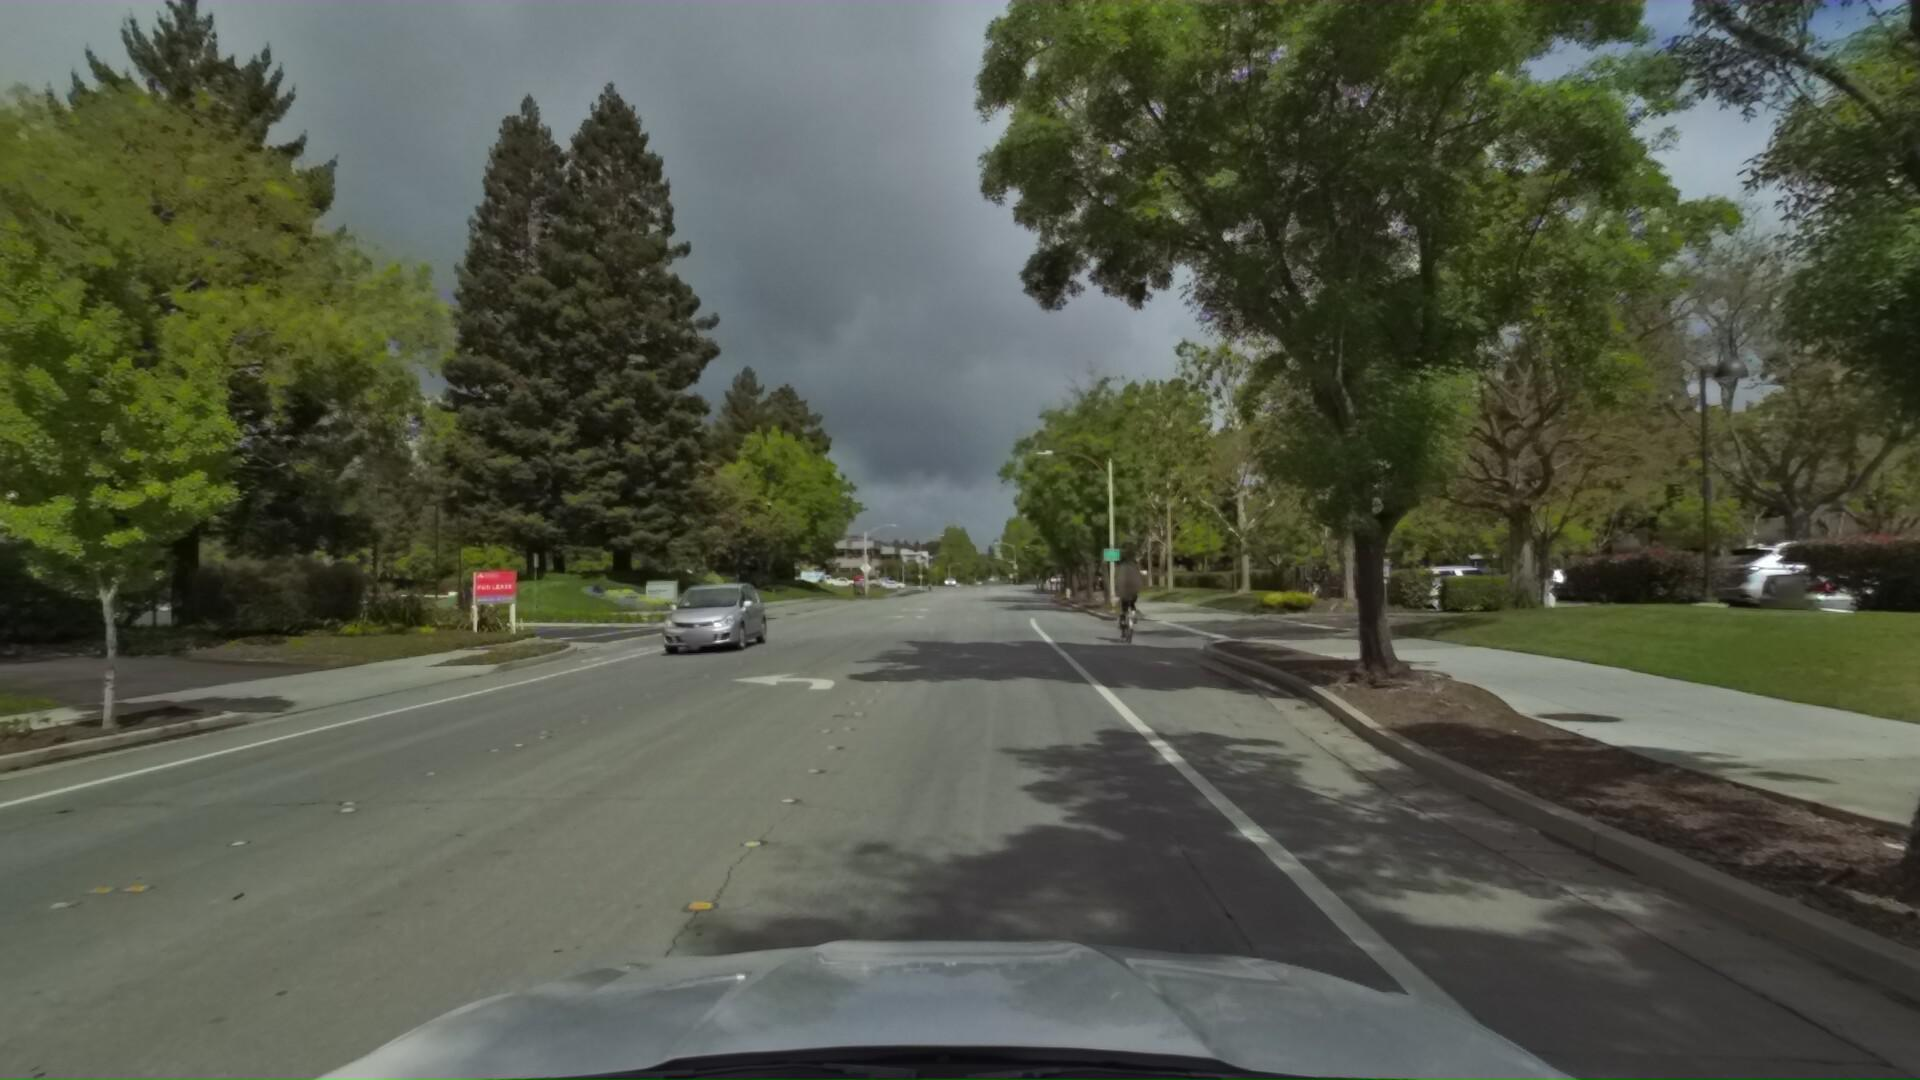bicycle: (1105, 560, 1153, 644)
car: (638, 578, 761, 659)
